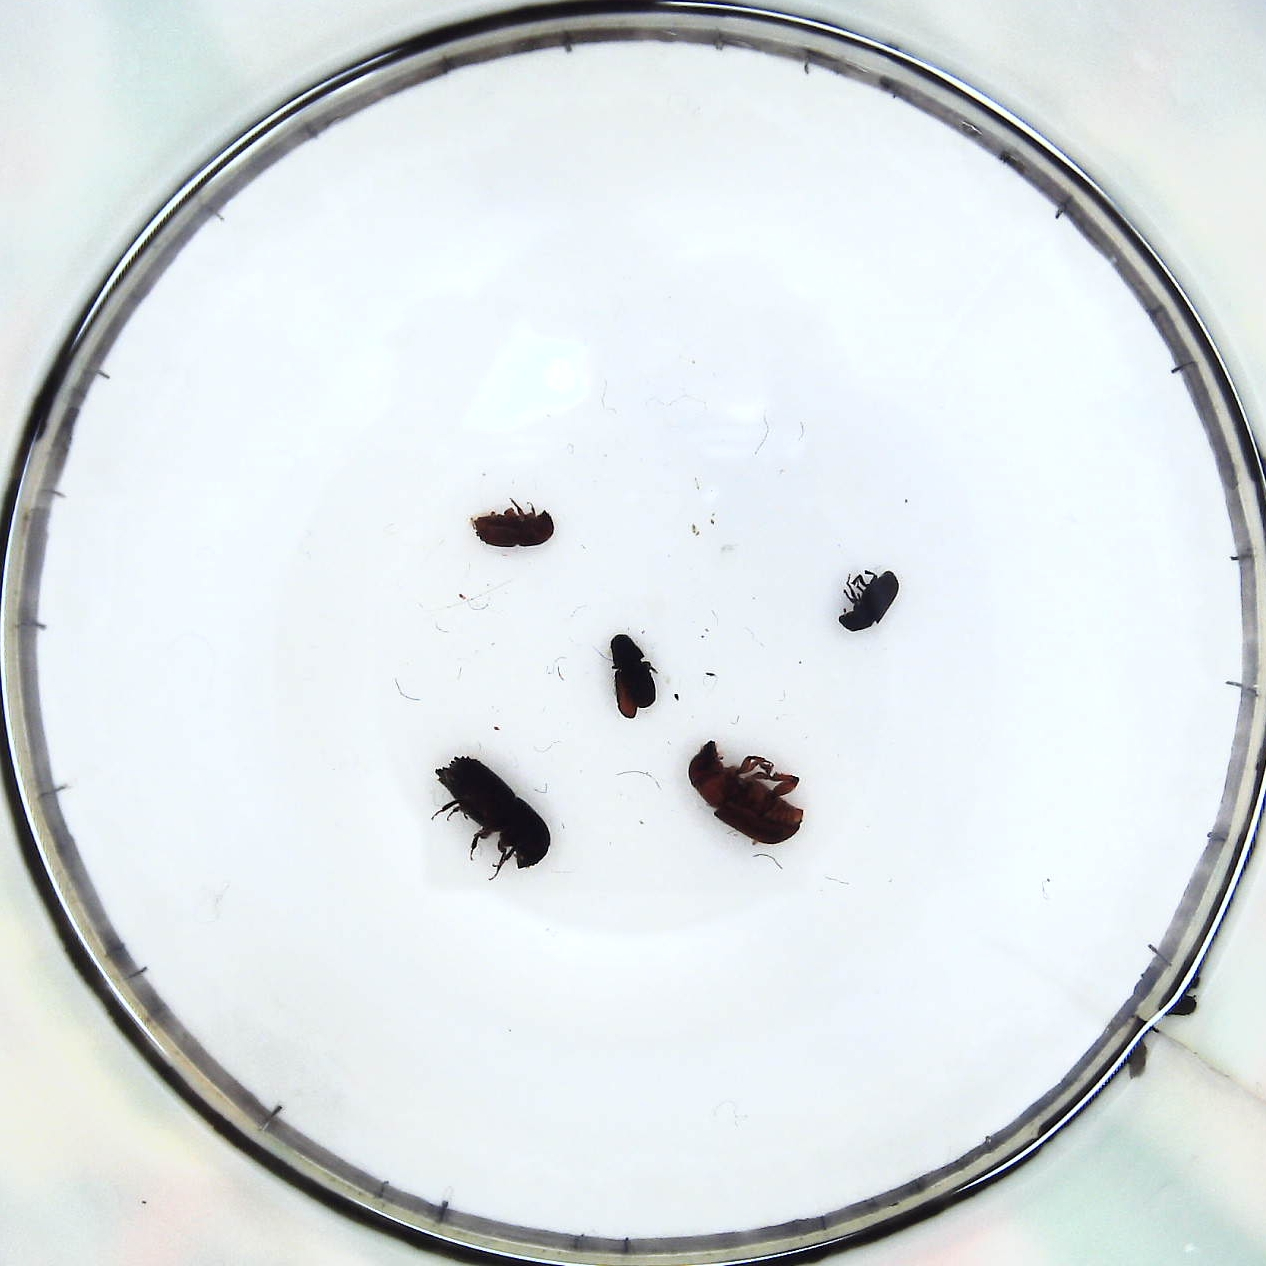Boerner: (430, 754, 554, 873)
Leconte: (687, 739, 807, 845)
Linnaeus: (474, 503, 556, 548)
armandi: (611, 628, 662, 719)
coleoptera: (838, 567, 901, 631)
